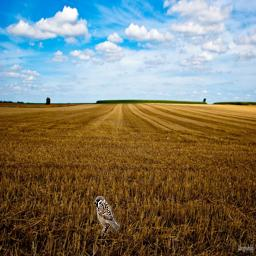Sparrow: (94, 196, 119, 236)
